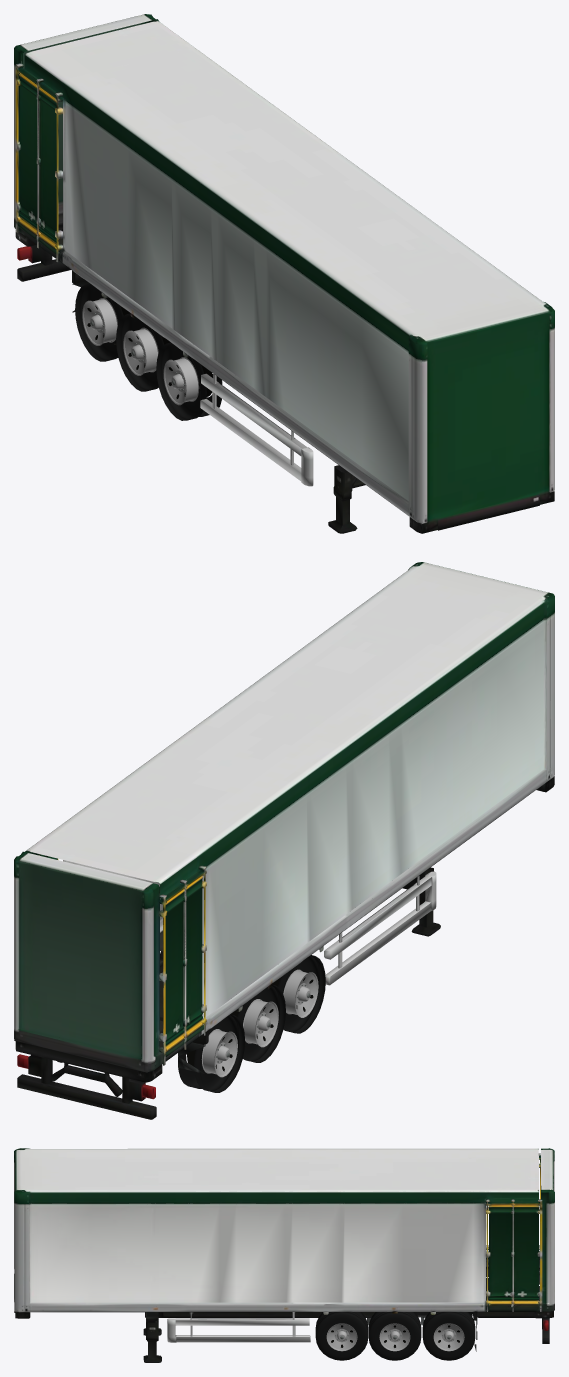
The model's file is carreta-bau-0.glb.
The picture shows the model from 3 angles, top to bottom: view 1: azimuth 30°, elevation 25°; view 2: azimuth 150°, elevation 25°; view 3: azimuth 270°, elevation 25°; orthographic projection. The views are drawn at different scales.
Parts seen in each view (by area): view 1: Frota_bau, Tyre_Rear_L, Tyre_Rear3_L, Tyre_Rear2_L; view 2: Frota_bau, Tyre_Rear3_L, Tyre_Rear2_L, Tyre_Rear_L; view 3: Frota_bau, Tyre_Rear2_R, Tyre_Rear_R, Tyre_Rear3_R.
Part boxes in pixels (x1,y1,x2,y2): Frota_bau: (14,14,554,533); Tyre_Rear_L: (156,342,222,420); Tyre_Rear3_L: (75,283,130,361); Tyre_Rear2_L: (116,313,170,391); Frota_bau: (14,562,554,1119); Tyre_Rear3_L: (178,1014,244,1092); Tyre_Rear2_L: (231,984,285,1062); Tyre_Rear_L: (271,955,325,1033); Frota_bau: (14,1148,554,1362); Tyre_Rear2_R: (368,1312,421,1360); Tyre_Rear_R: (315,1312,368,1360); Tyre_Rear3_R: (422,1312,475,1360).
Size of the model in its own units: 2.61 by 4.5 by 12.5.
1 material, 1 textured.
